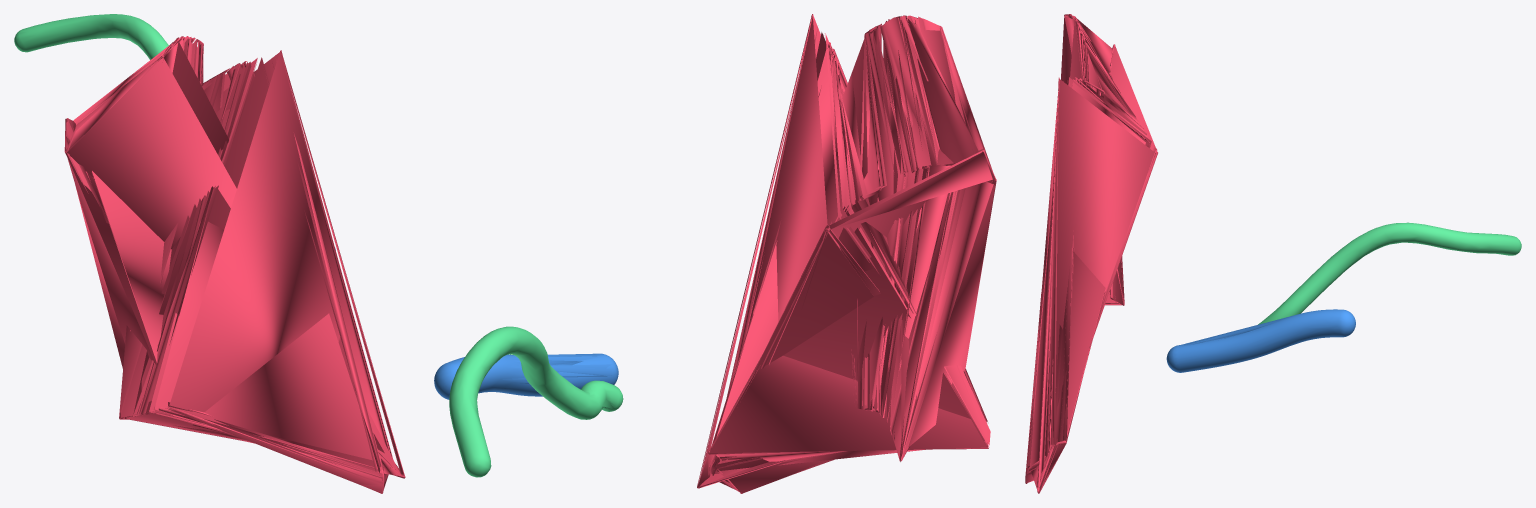
The model's file is organ-liver.glb.
The picture shows the model from 3 angles, left to right: view 1: azimuth 30°, elevation 25°; view 2: azimuth 150°, elevation 25°; view 3: azimuth 270°, elevation 25°; orthographic projection. The views are drawn at different scales.
Visible parts, largest first — view 1: Hepatic_Artery, Bile_Ducts_Gallbladder; view 2: Hepatic_Artery, Bile_Ducts_Gallbladder, Portal_Vein_Hepatic_Veins; view 3: Hepatic_Artery, Portal_Vein_Hepatic_Veins, Bile_Ducts_Gallbladder.
Boxes of the visible parts, bbox=[...] form: Hepatic_Artery: bbox=[64, 36, 405, 493]; Bile_Ducts_Gallbladder: bbox=[14, 14, 168, 59]; Hepatic_Artery: bbox=[697, 14, 996, 493]; Bile_Ducts_Gallbladder: bbox=[449, 326, 623, 477]; Portal_Vein_Hepatic_Veins: bbox=[434, 353, 618, 399]; Hepatic_Artery: bbox=[1025, 14, 1157, 493]; Portal_Vein_Hepatic_Veins: bbox=[1166, 309, 1355, 372]; Bile_Ducts_Gallbladder: bbox=[1258, 222, 1521, 324].
Size of the model in its own units: 0.2931 by 0.3902 by 0.4422.
